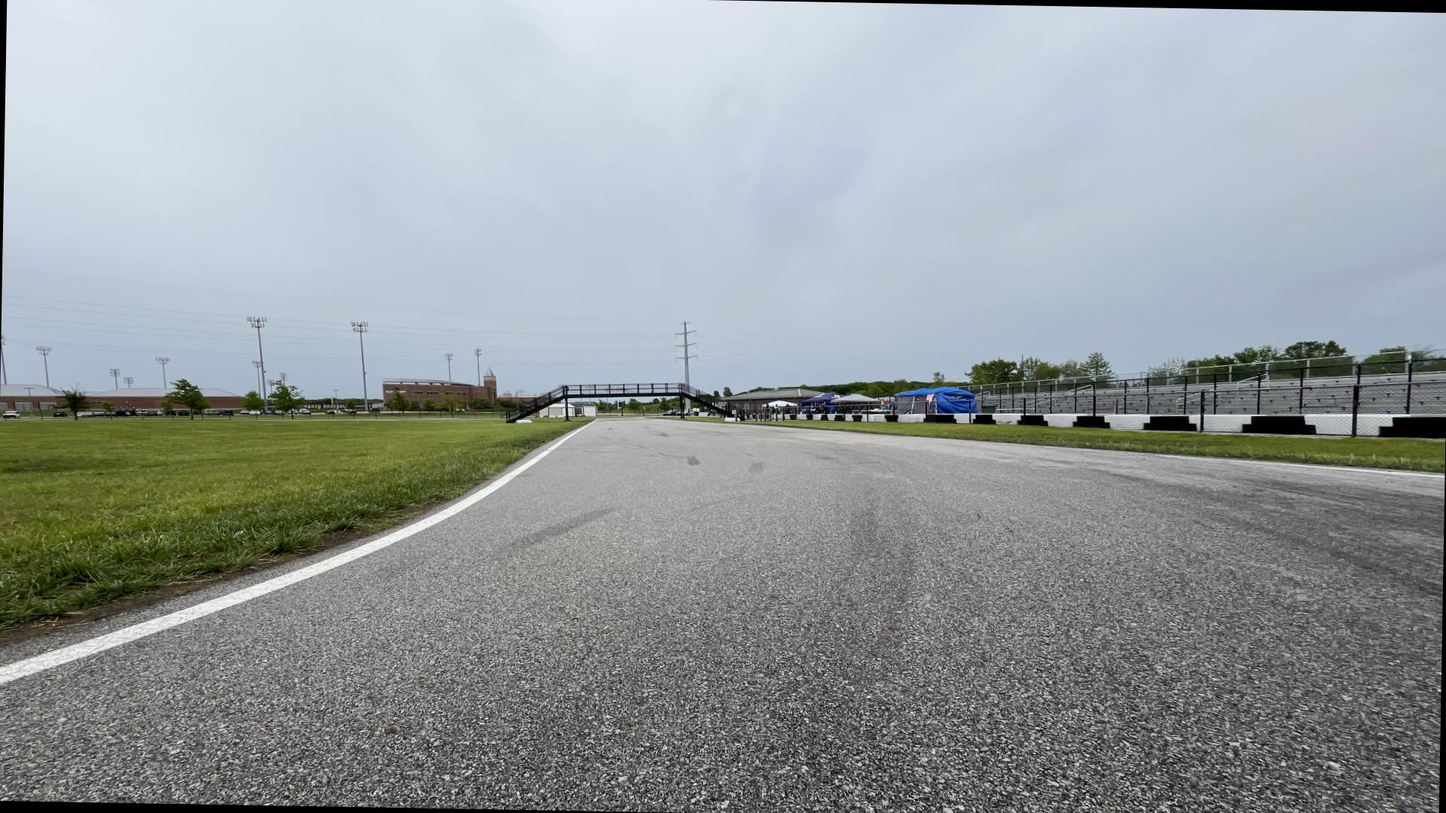white-line: (0, 419, 597, 686), (934, 438, 1444, 478)
